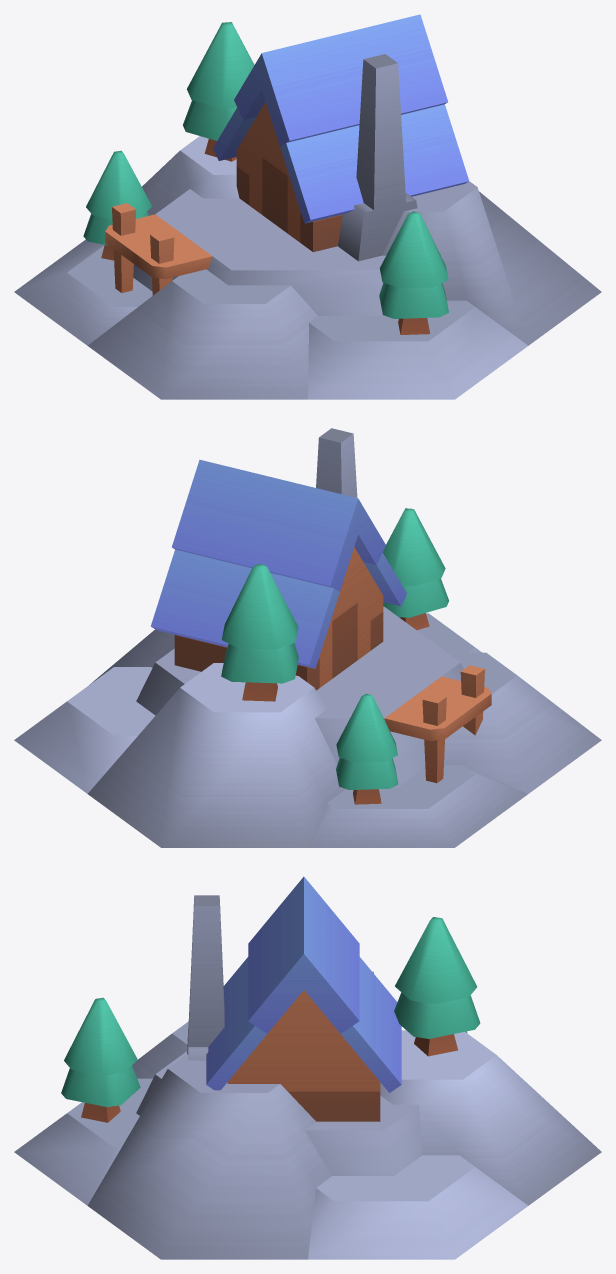
The model's file is cabin.fbx.
3 renders of one model, top to bottom at view 1: azimuth 30°, elevation 25°; view 2: azimuth 150°, elevation 25°; view 3: azimuth 270°, elevation 25°, orthographic.
Visible parts, largest first — view 1: building_cabin; view 2: building_cabin; view 3: building_cabin.
Part boxes in pixels (x1,y1,x2,y2): building_cabin: [14, 14, 601, 399]; building_cabin: [14, 428, 601, 847]; building_cabin: [14, 876, 601, 1259].
Bounding box in the file's own units: 100 × 56.84 × 115.
